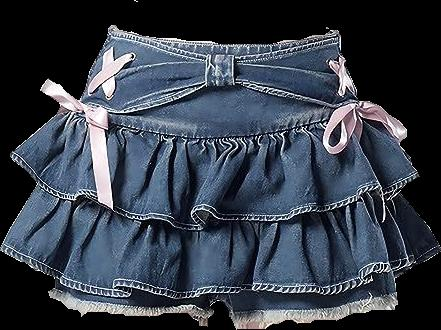Hemline: (10, 153, 418, 232), (0, 247, 440, 298), (49, 292, 396, 328), (80, 80, 359, 112)
Waistline: (76, 105, 363, 139), (111, 29, 339, 56)
